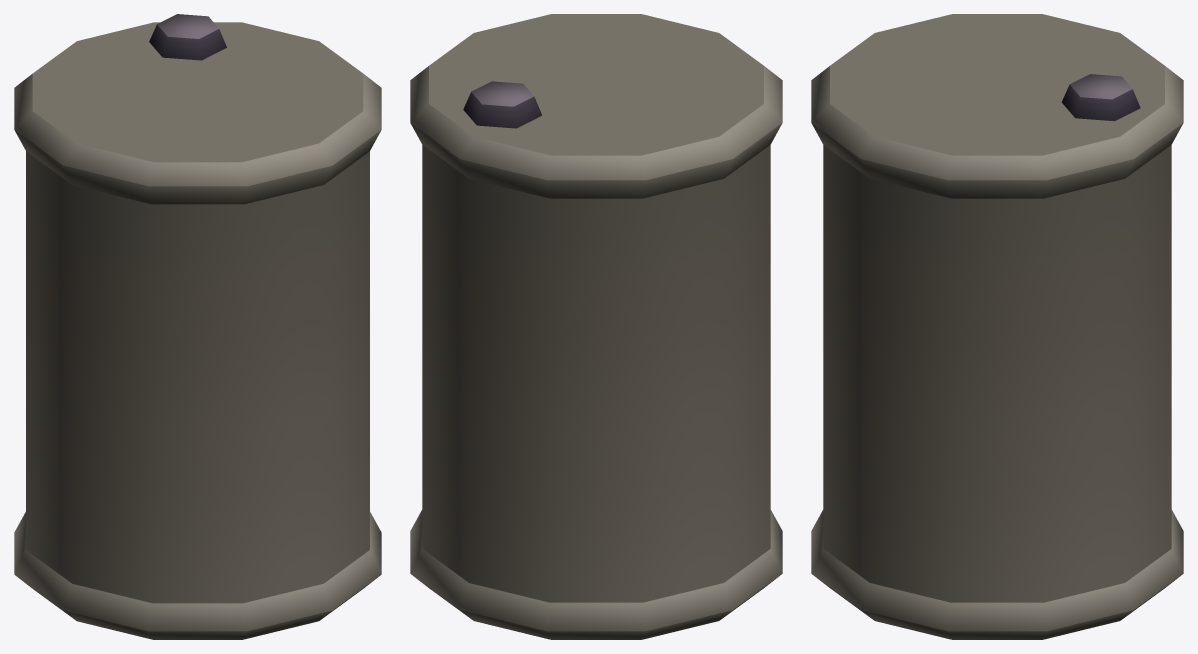
Rendered from Barrel_1E.fbx.
3 views of the same model, side by side, from view 1: azimuth 30°, elevation 25°; view 2: azimuth 150°, elevation 25°; view 3: azimuth 270°, elevation 25° (orthographic).
Visible parts, largest first — view 1: Barrel_1E; view 2: Barrel_1E; view 3: Barrel_1E.
Boxes of the visible parts, left/top/right/bottom form: Barrel_1E: left=14, top=14, right=381, bottom=639; Barrel_1E: left=410, top=14, right=782, bottom=639; Barrel_1E: left=811, top=14, right=1183, bottom=639.
Size of the model in its own units: 83.69 by 125 by 83.69.
